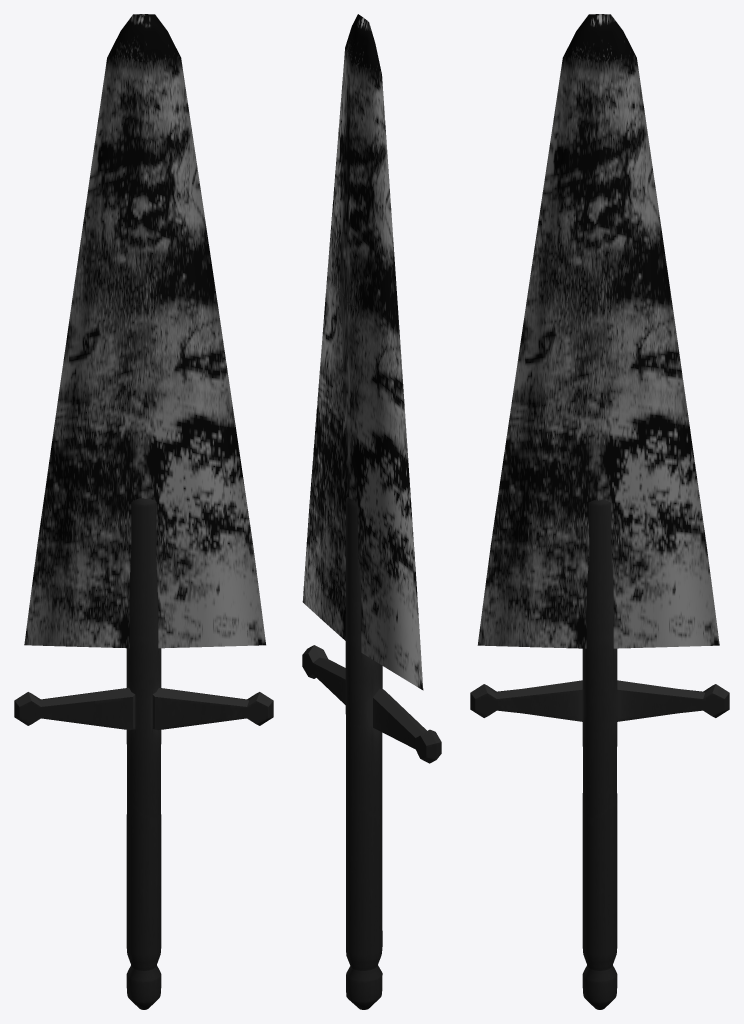
Rendered from ModClass.glb.
3 views of the same model, side by side, from view 1: azimuth 90°, elevation 25°; view 2: azimuth 210°, elevation 25°; view 3: azimuth 270°, elevation 25° (orthographic).
Parts seen in each view (by area): view 1: Plane.002, Plane.003; view 2: Plane.002, Plane.003; view 3: Plane.002, Plane.003.
Boxes of the visible parts, <box> form: Plane.002: <box>24,14,265,648</box>; Plane.003: <box>14,498,273,1009</box>; Plane.002: <box>302,14,423,690</box>; Plane.003: <box>302,497,441,1009</box>; Plane.002: <box>477,14,719,648</box>; Plane.003: <box>470,500,729,1009</box>.
Bounding box in the file's own units: 0.1362 × 3.93 × 0.9287.
2 materials, 2 textured.
